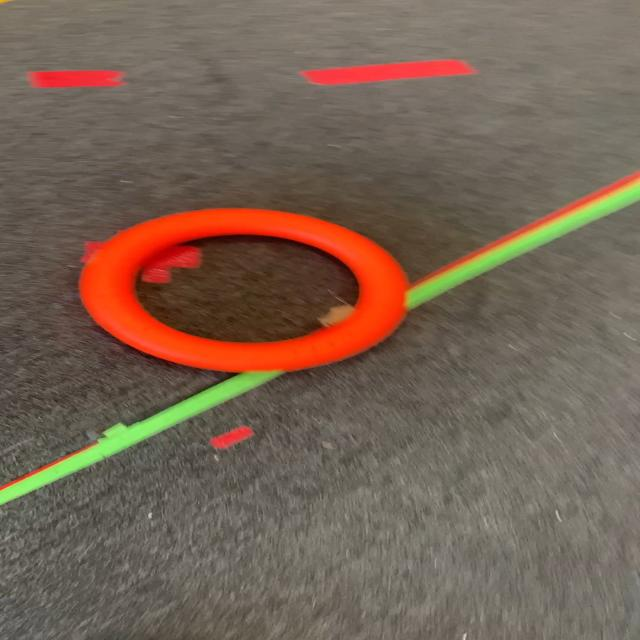notes: (83, 209, 408, 372)
